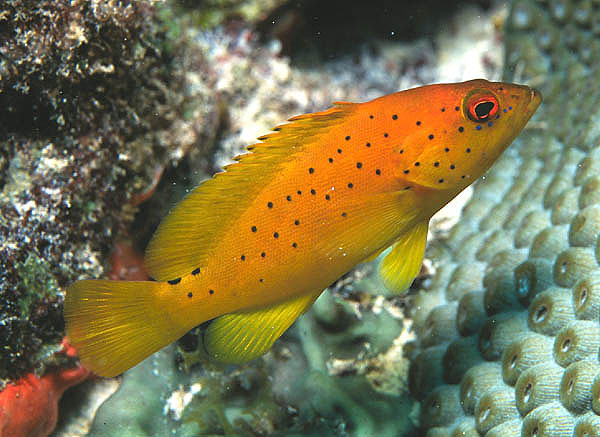Cephalopholis_fulvaw: (63, 49, 546, 389)
